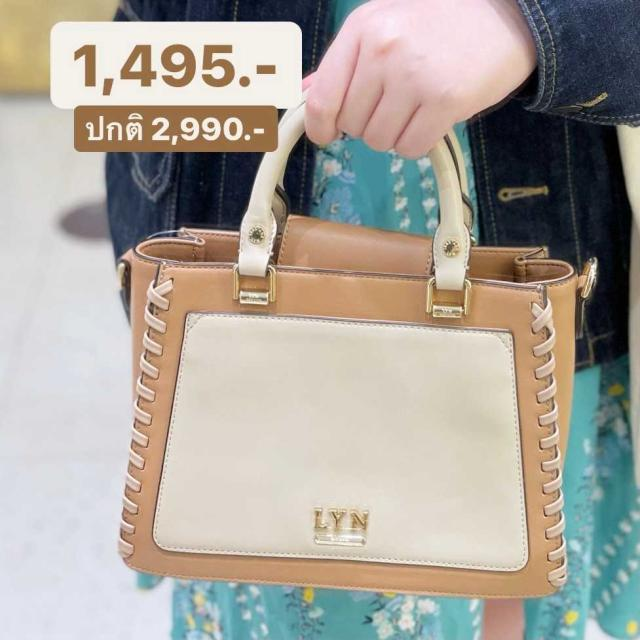Handbag: (103, 222, 585, 618)
